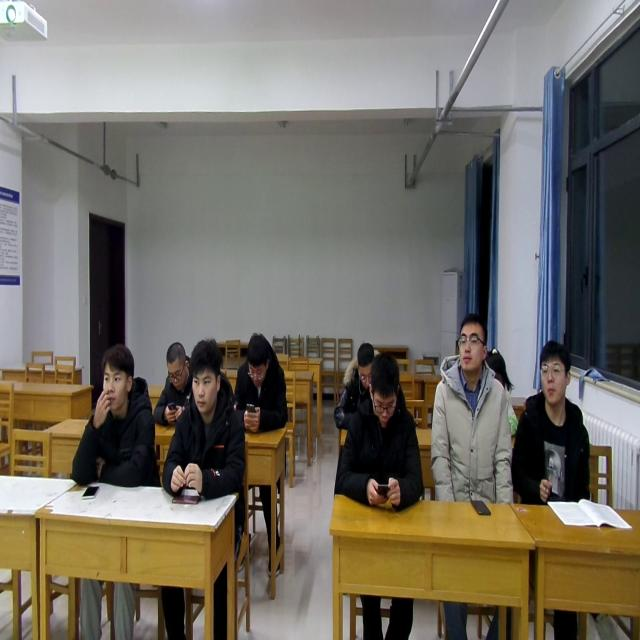bow: (330, 337, 380, 429), (152, 341, 196, 426)
down: (185, 331, 224, 416), (368, 352, 401, 431), (242, 327, 274, 384), (161, 336, 192, 392), (351, 337, 374, 392)
lookup: (96, 343, 136, 417), (537, 337, 572, 408), (452, 311, 489, 378)
sit: (432, 313, 514, 508), (162, 335, 247, 504), (338, 351, 424, 512), (511, 337, 591, 504), (69, 346, 156, 494), (234, 331, 287, 433)
